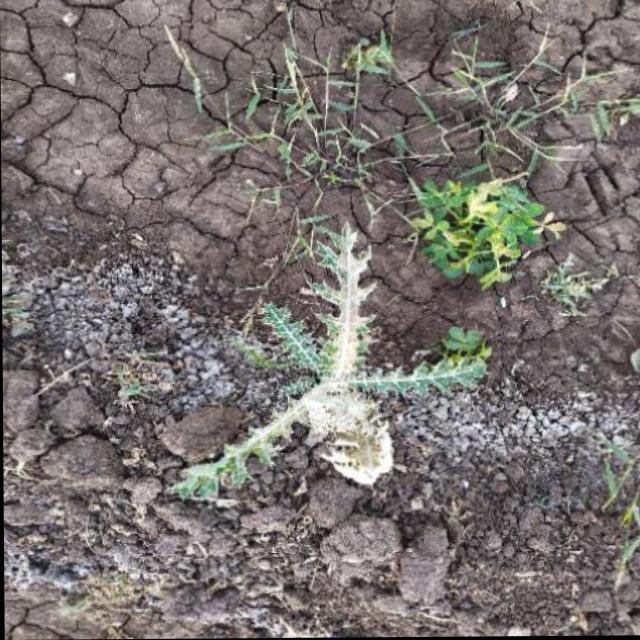weed: (150, 242, 504, 504), (222, 46, 590, 279)
